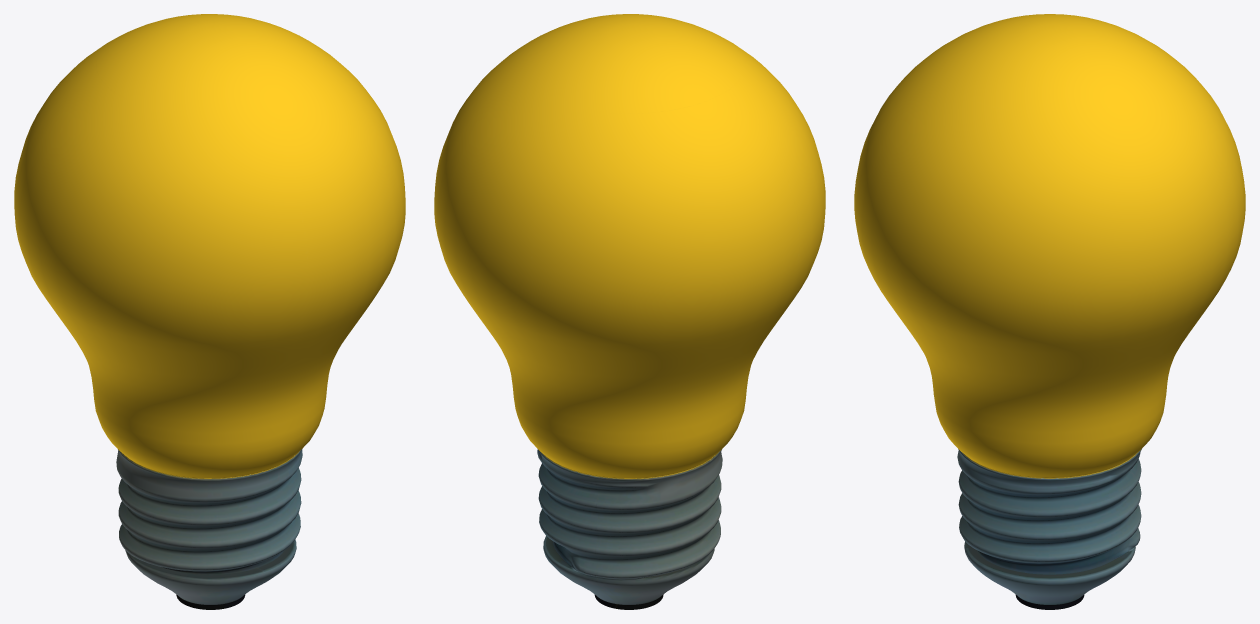
Rendered from lightBulbYellow.fbx.
3 views of the same model, side by side, from view 1: azimuth 30°, elevation 25°; view 2: azimuth 150°, elevation 25°; view 3: azimuth 270°, elevation 25° (orthographic).
Parts seen in each view (by area): view 1: node_id29; view 2: node_id29; view 3: node_id29.
Boxes of the visible parts, x1,y1,x2,y2 form: node_id29: [14, 14, 405, 609]; node_id29: [434, 14, 825, 609]; node_id29: [854, 14, 1245, 609].
Size of the model in its own units: 0.3223 by 0.512 by 0.3223.
Materials: 1 (1 with a texture image).
